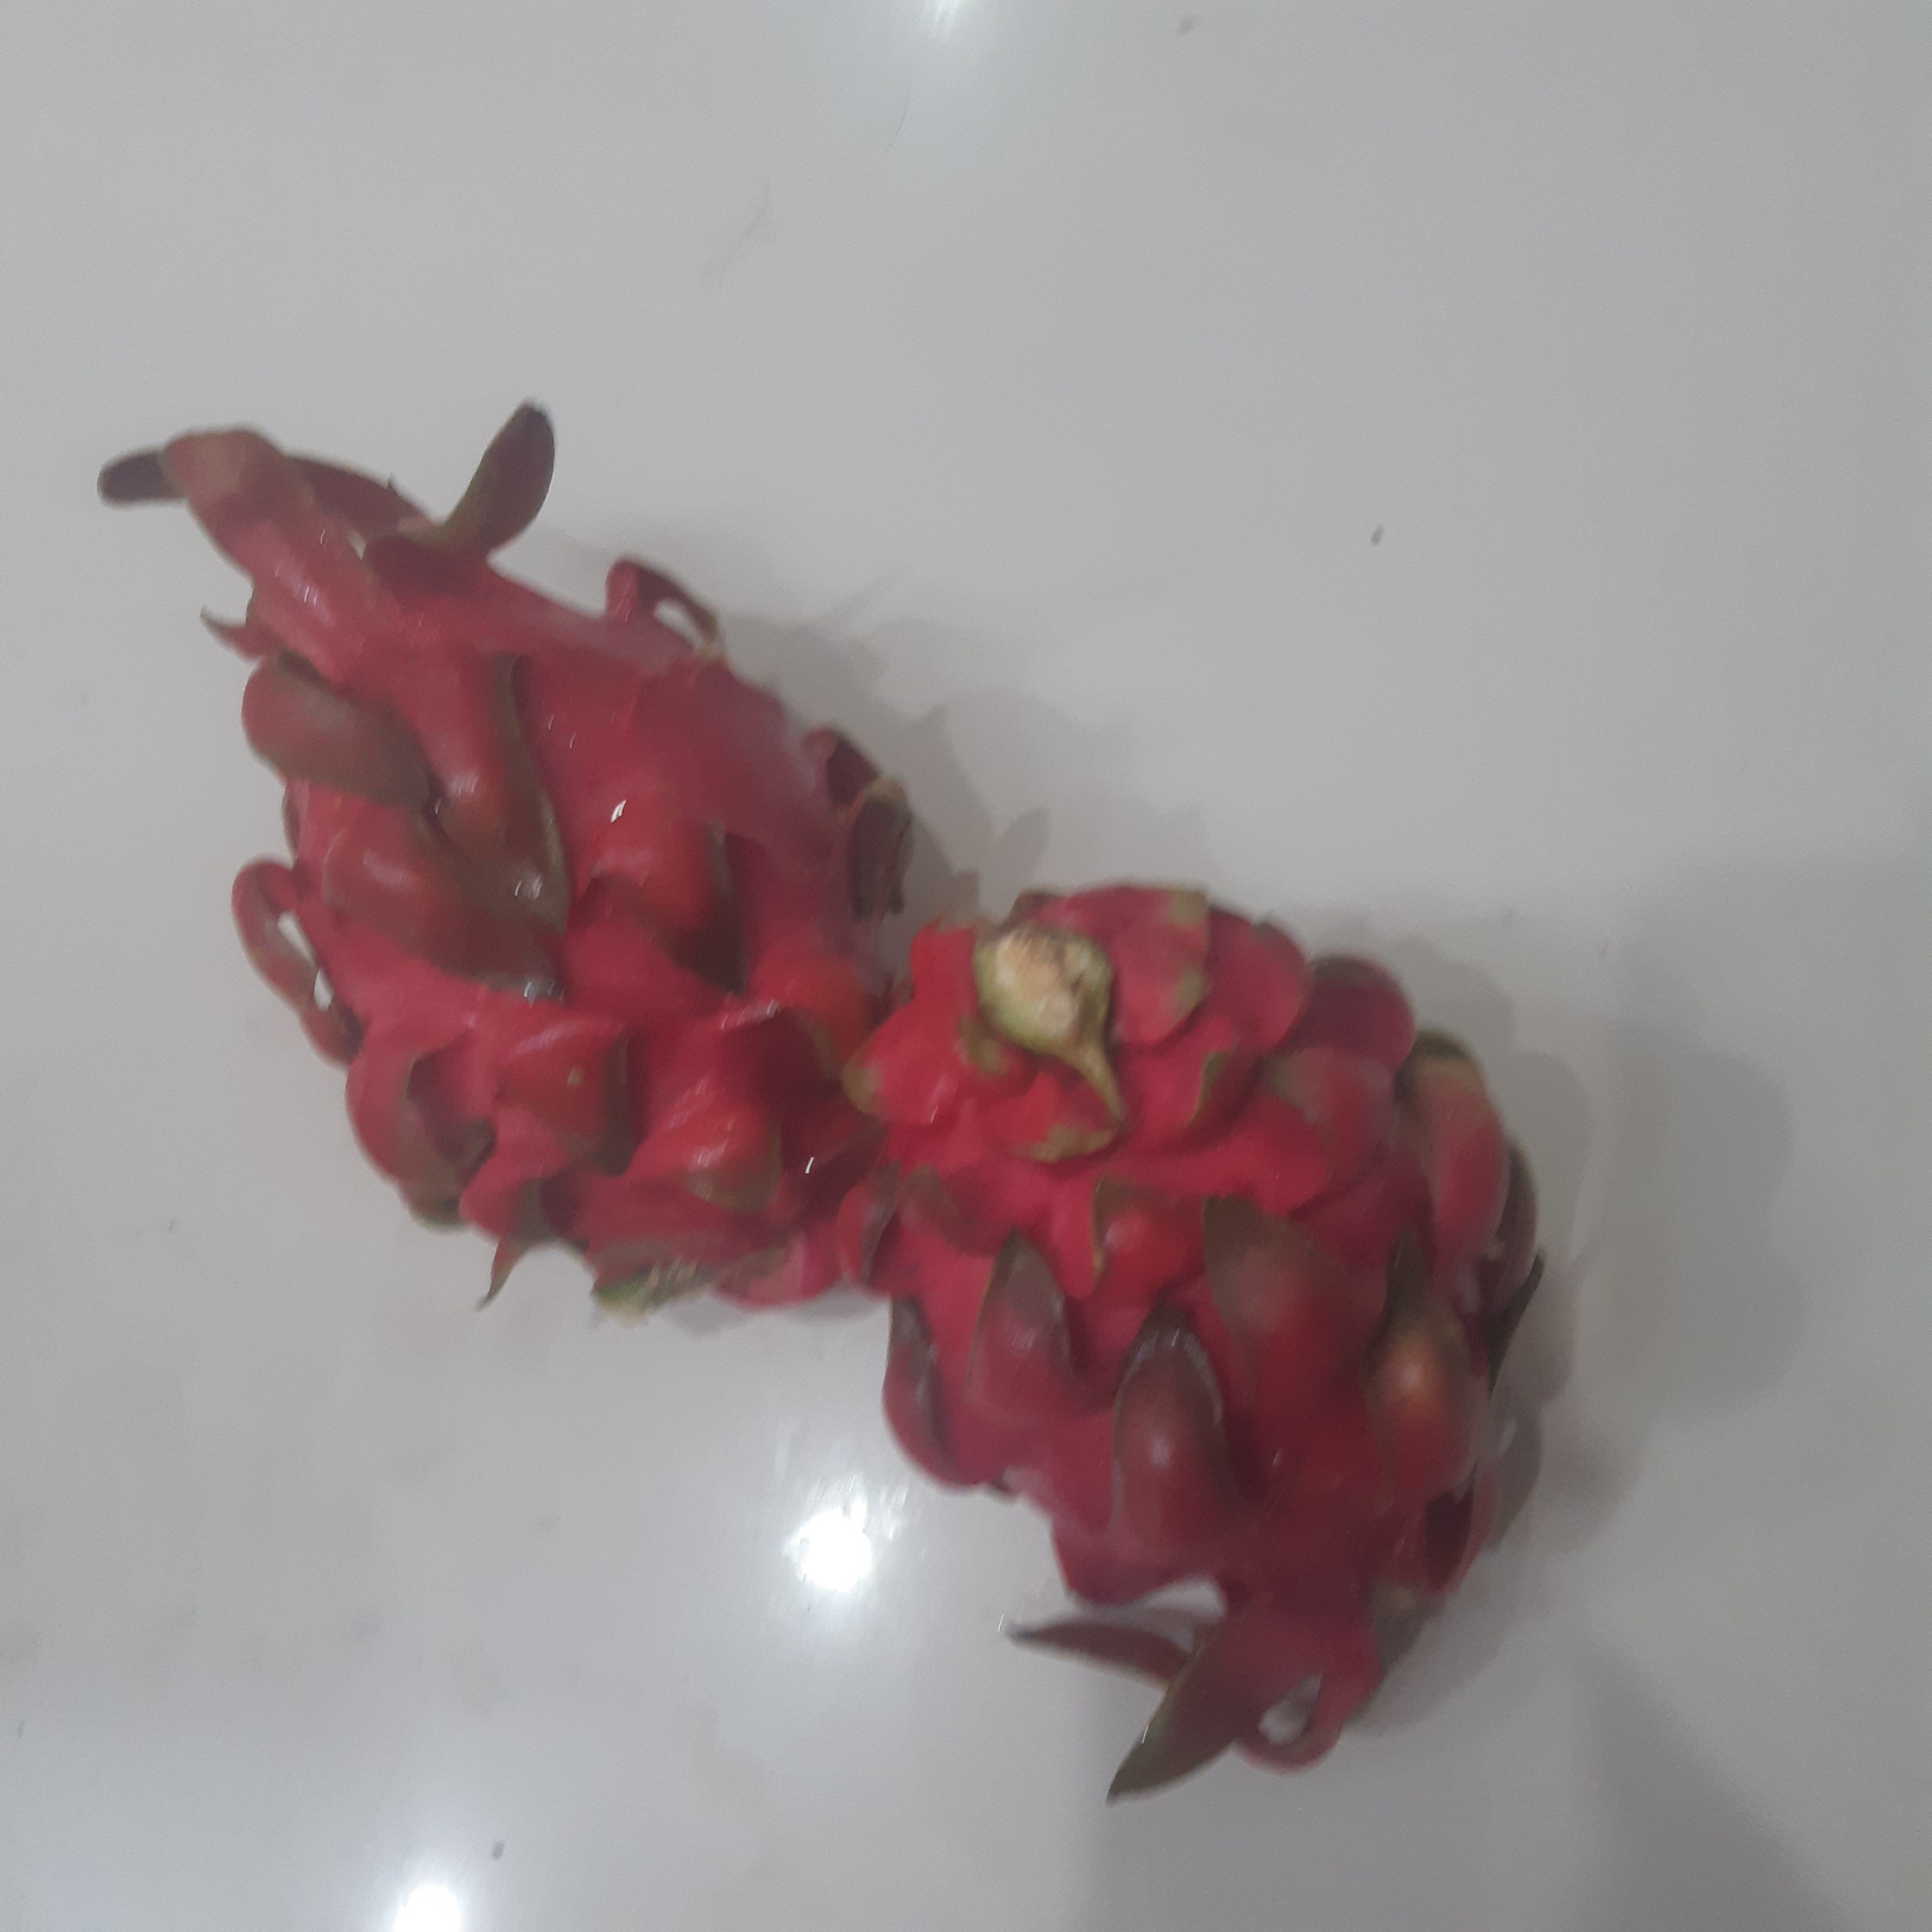Thanh long: (874, 886, 1543, 1619), (258, 563, 901, 1299)
